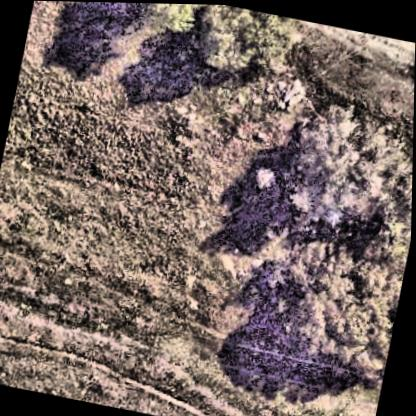tree-top: (269, 231, 409, 384), (280, 103, 414, 232), (184, 3, 298, 92), (135, 2, 205, 46)
